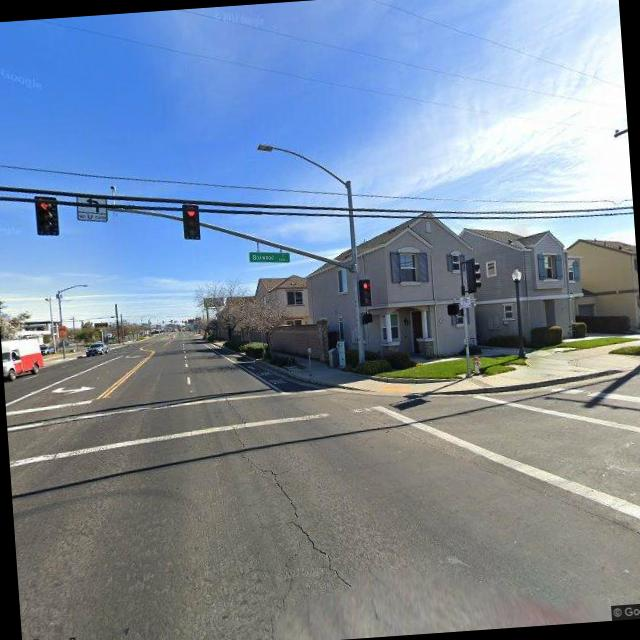pothole: (225, 406, 354, 602)
